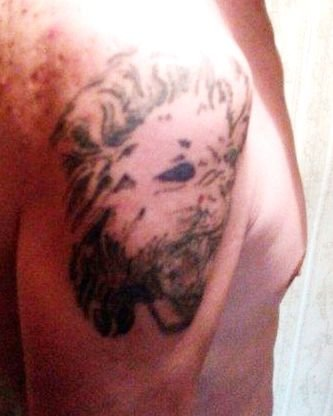tatu8_kot: (39, 33, 263, 357)
